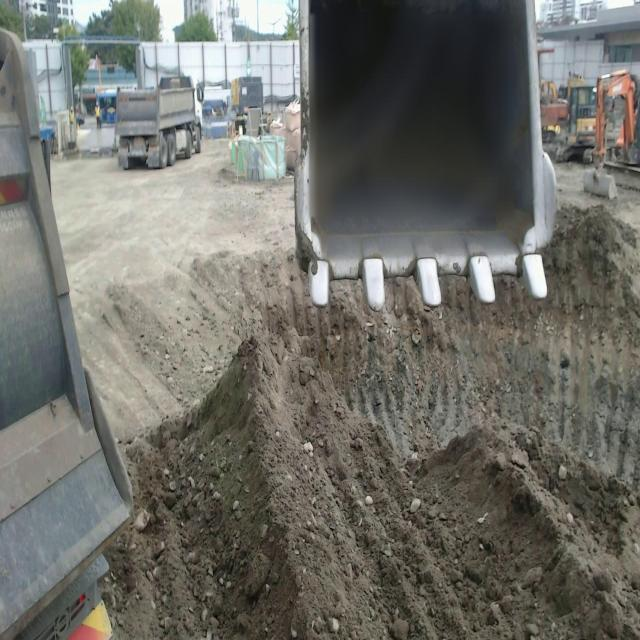red-sand: (111, 206, 640, 639)
white-sand: (53, 140, 294, 443)
